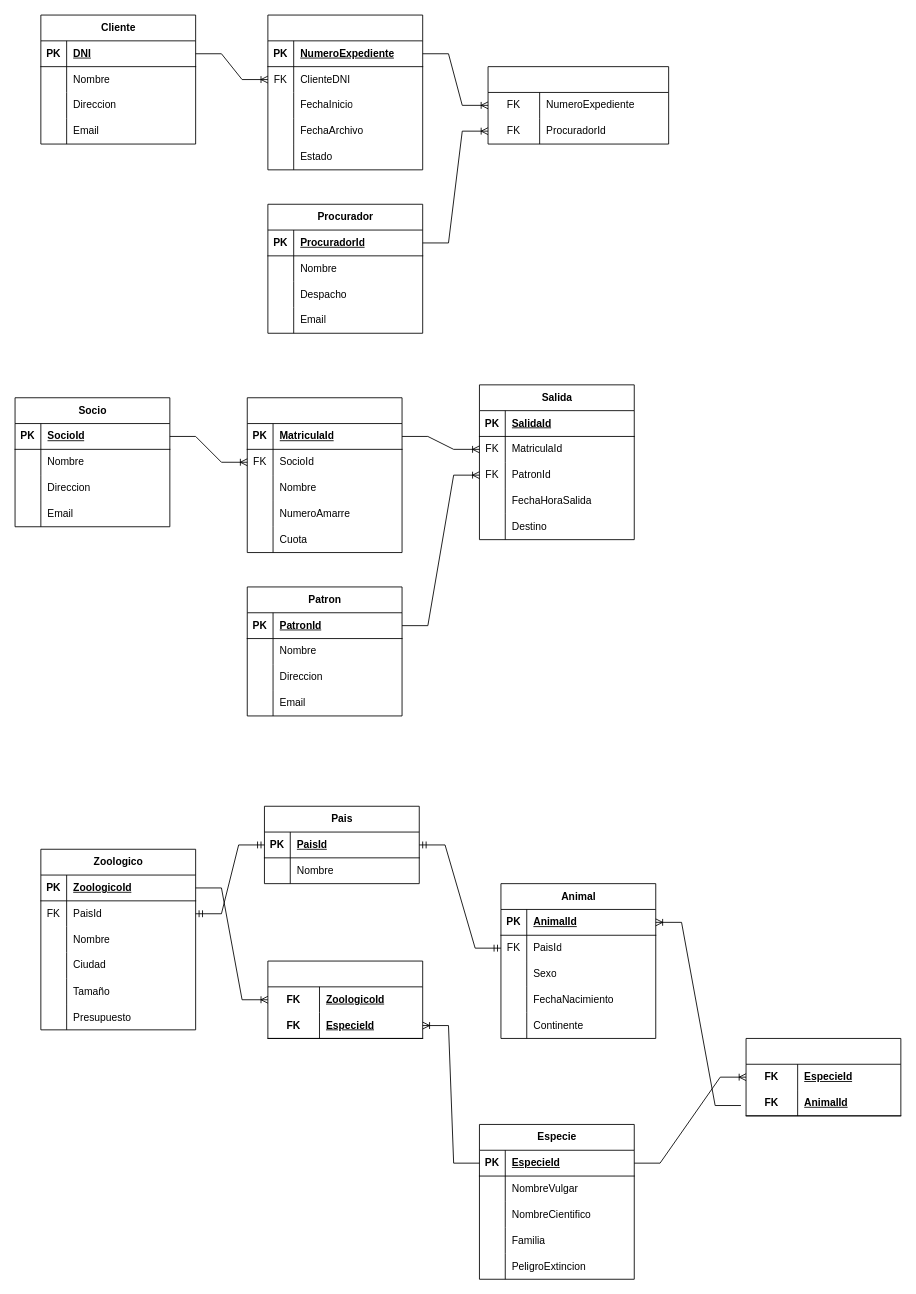
Some shapes in this 916 by 1294 pixel diagram are drawn without their labels. The box of each missing label's shape, as (x1, y1, x2, y2) in pixels:
Asunto: (267, 14, 423, 170)
Asunto_Procurador: (487, 66, 669, 144)
Barco: (246, 397, 402, 553)
Especie_Animal: (745, 1038, 901, 1116)
Zoologico_Especie: (267, 960, 423, 1038)
